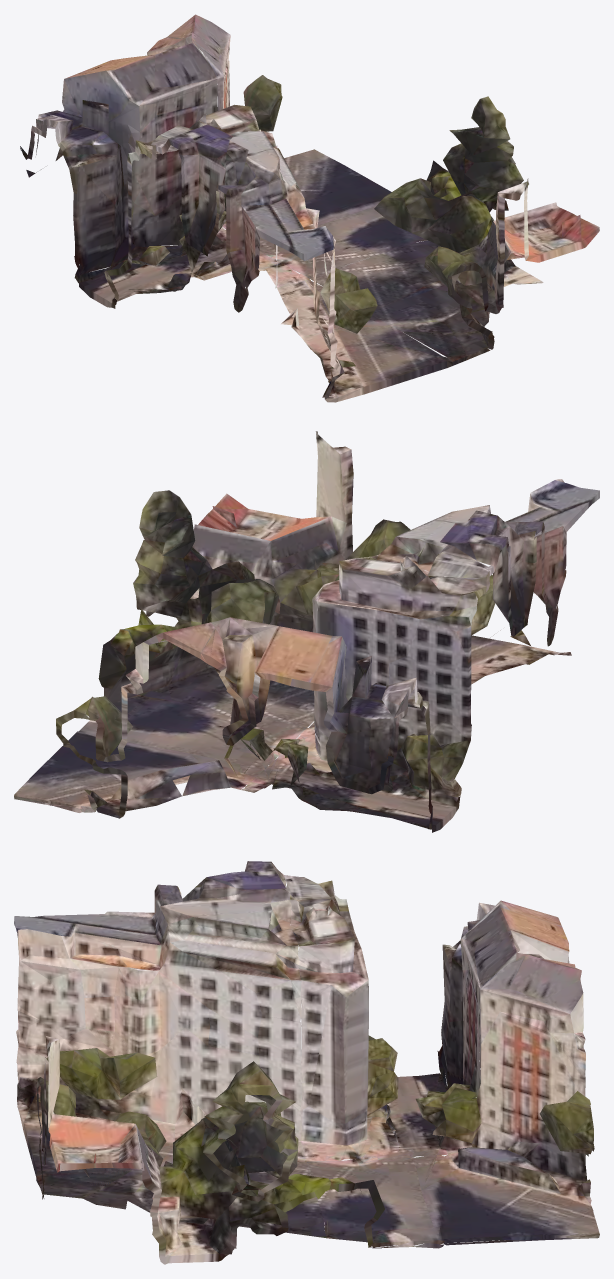
3 renders of one model, top to bottom at view 1: azimuth 30°, elevation 25°; view 2: azimuth 150°, elevation 25°; view 3: azimuth 270°, elevation 25°, orthographic. The views are drawn at different scales.
Parts seen in each view (by area): view 1: Mesh_0; view 2: Mesh_0; view 3: Mesh_0.
Part boxes in pixels (left/top/right/bottom): Mesh_0: left=20, top=14, right=599, bottom=402; Mesh_0: left=14, top=431, right=599, bottom=832; Mesh_0: left=14, top=861, right=599, bottom=1264.
Size of the model in its own units: 67.77 by 36.09 by 82.44.
1 material, 1 textured.
